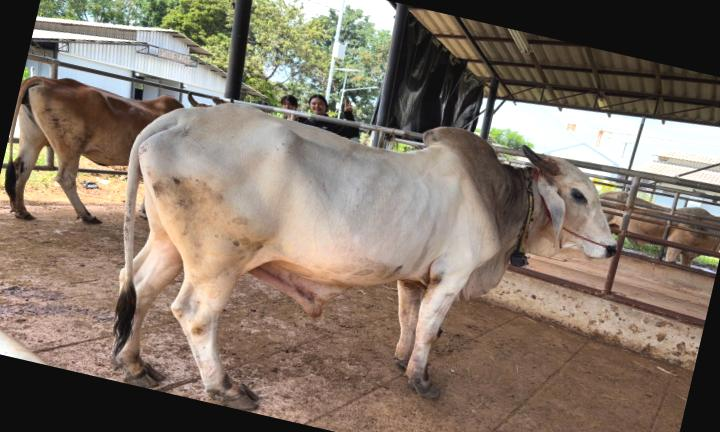Brahman: (113, 104, 615, 409)
